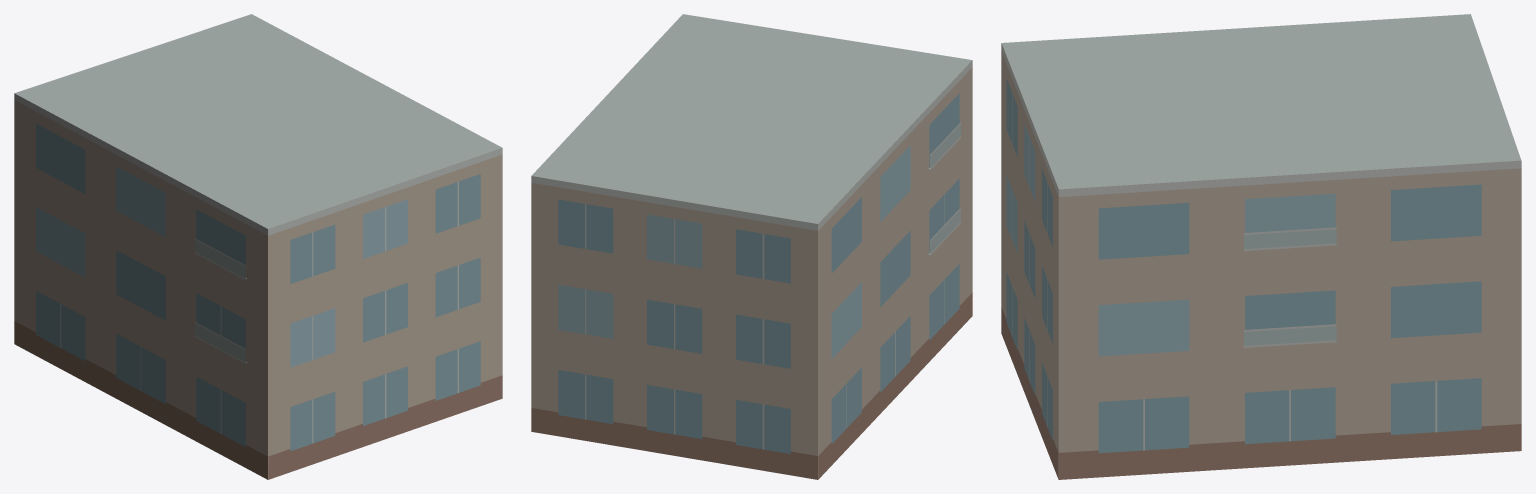
Rendered from survey-upis-32868039.glb.
3 views of the same model, side by side, from view 1: azimuth 30°, elevation 25°; view 2: azimuth 150°, elevation 25°; view 3: azimuth 270°, elevation 25° (orthographic). The views are drawn at different scales.
Parts seen in each view (by area): view 1: survey-upis-32868039.tmp; view 2: survey-upis-32868039.tmp; view 3: survey-upis-32868039.tmp.
Part boxes in pixels (box(x1,y1,x2,y2)): survey-upis-32868039.tmp: box(14, 14, 502, 479); survey-upis-32868039.tmp: box(531, 14, 972, 479); survey-upis-32868039.tmp: box(1001, 14, 1521, 479).
Size of the model in its own units: 11.87 by 9.15 by 14.86.
